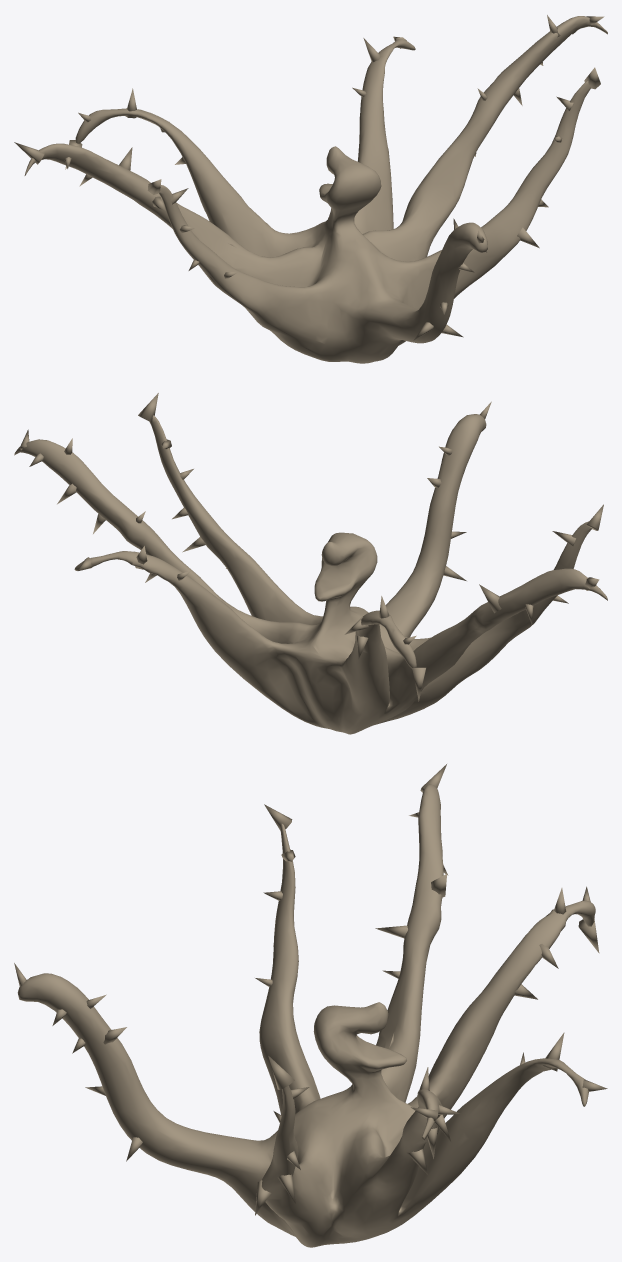
The model's file is petalfang.glb.
3 views of the same model, one above another, from view 1: azimuth 30°, elevation 25°; view 2: azimuth 150°, elevation 25°; view 3: azimuth 270°, elevation 25° (orthographic). The views are drawn at different scales.
Parts seen in each view (by area): view 1: petalfang; view 2: petalfang; view 3: petalfang.
Boxes of the visible parts, x1,y1,x2,y2 form: petalfang: (14,15,607,363); petalfang: (14,393,607,734); petalfang: (14,764,607,1247).
Size of the model in its own units: 1.9 by 0.7955 by 1.39.
